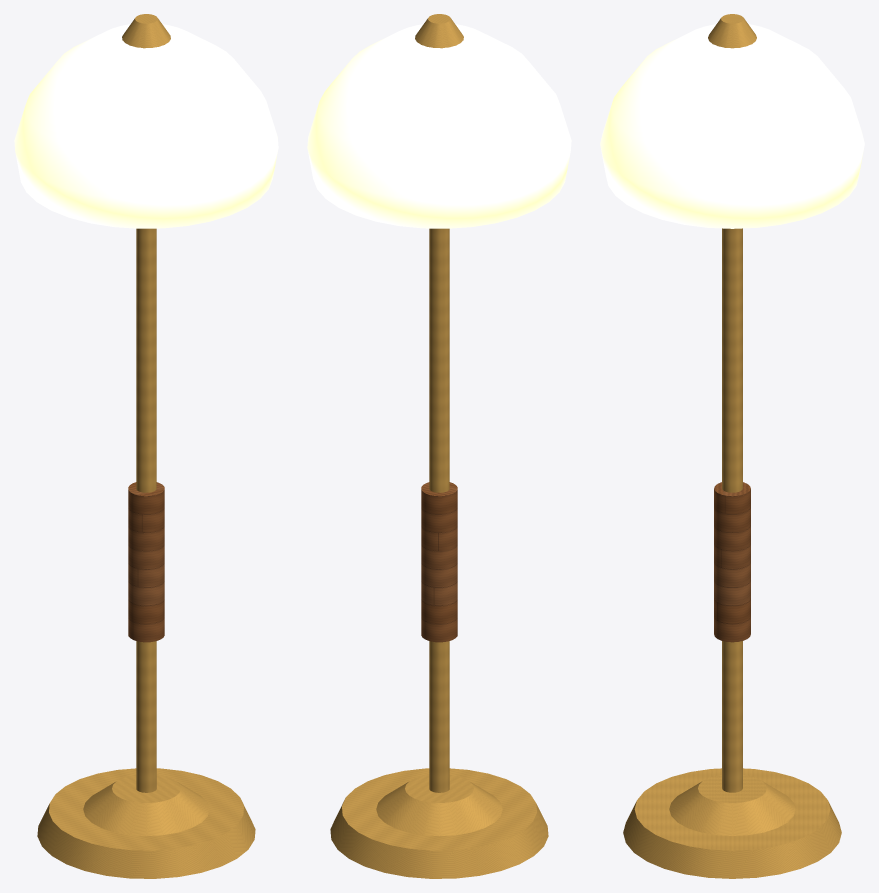
Rendered from floor_lamp.glb.
3 renders of one model, left to right at view 1: azimuth 30°, elevation 25°; view 2: azimuth 150°, elevation 25°; view 3: azimuth 270°, elevation 25°, orthographic.
Visible parts, largest first — view 1: Lamp_MushroomDomeShade, Lamp_BrassBaseAndStem, Lamp_WoodStemAccent; view 2: Lamp_MushroomDomeShade, Lamp_BrassBaseAndStem, Lamp_WoodStemAccent; view 3: Lamp_MushroomDomeShade, Lamp_BrassBaseAndStem, Lamp_WoodStemAccent.
Part boxes in pixels (x1,y1,x2,y2): Lamp_MushroomDomeShade: (14, 24, 278, 228); Lamp_BrassBaseAndStem: (37, 14, 255, 878); Lamp_WoodStemAccent: (128, 482, 164, 642); Lamp_MushroomDomeShade: (307, 24, 571, 228); Lamp_BrassBaseAndStem: (330, 14, 548, 878); Lamp_WoodStemAccent: (421, 482, 457, 642); Lamp_MushroomDomeShade: (600, 24, 864, 228); Lamp_BrassBaseAndStem: (623, 14, 841, 878); Lamp_WoodStemAccent: (714, 482, 750, 642).
Bounding box in the file's own units: 0.46 × 1.56 × 0.46.
4 materials, 2 textured.
